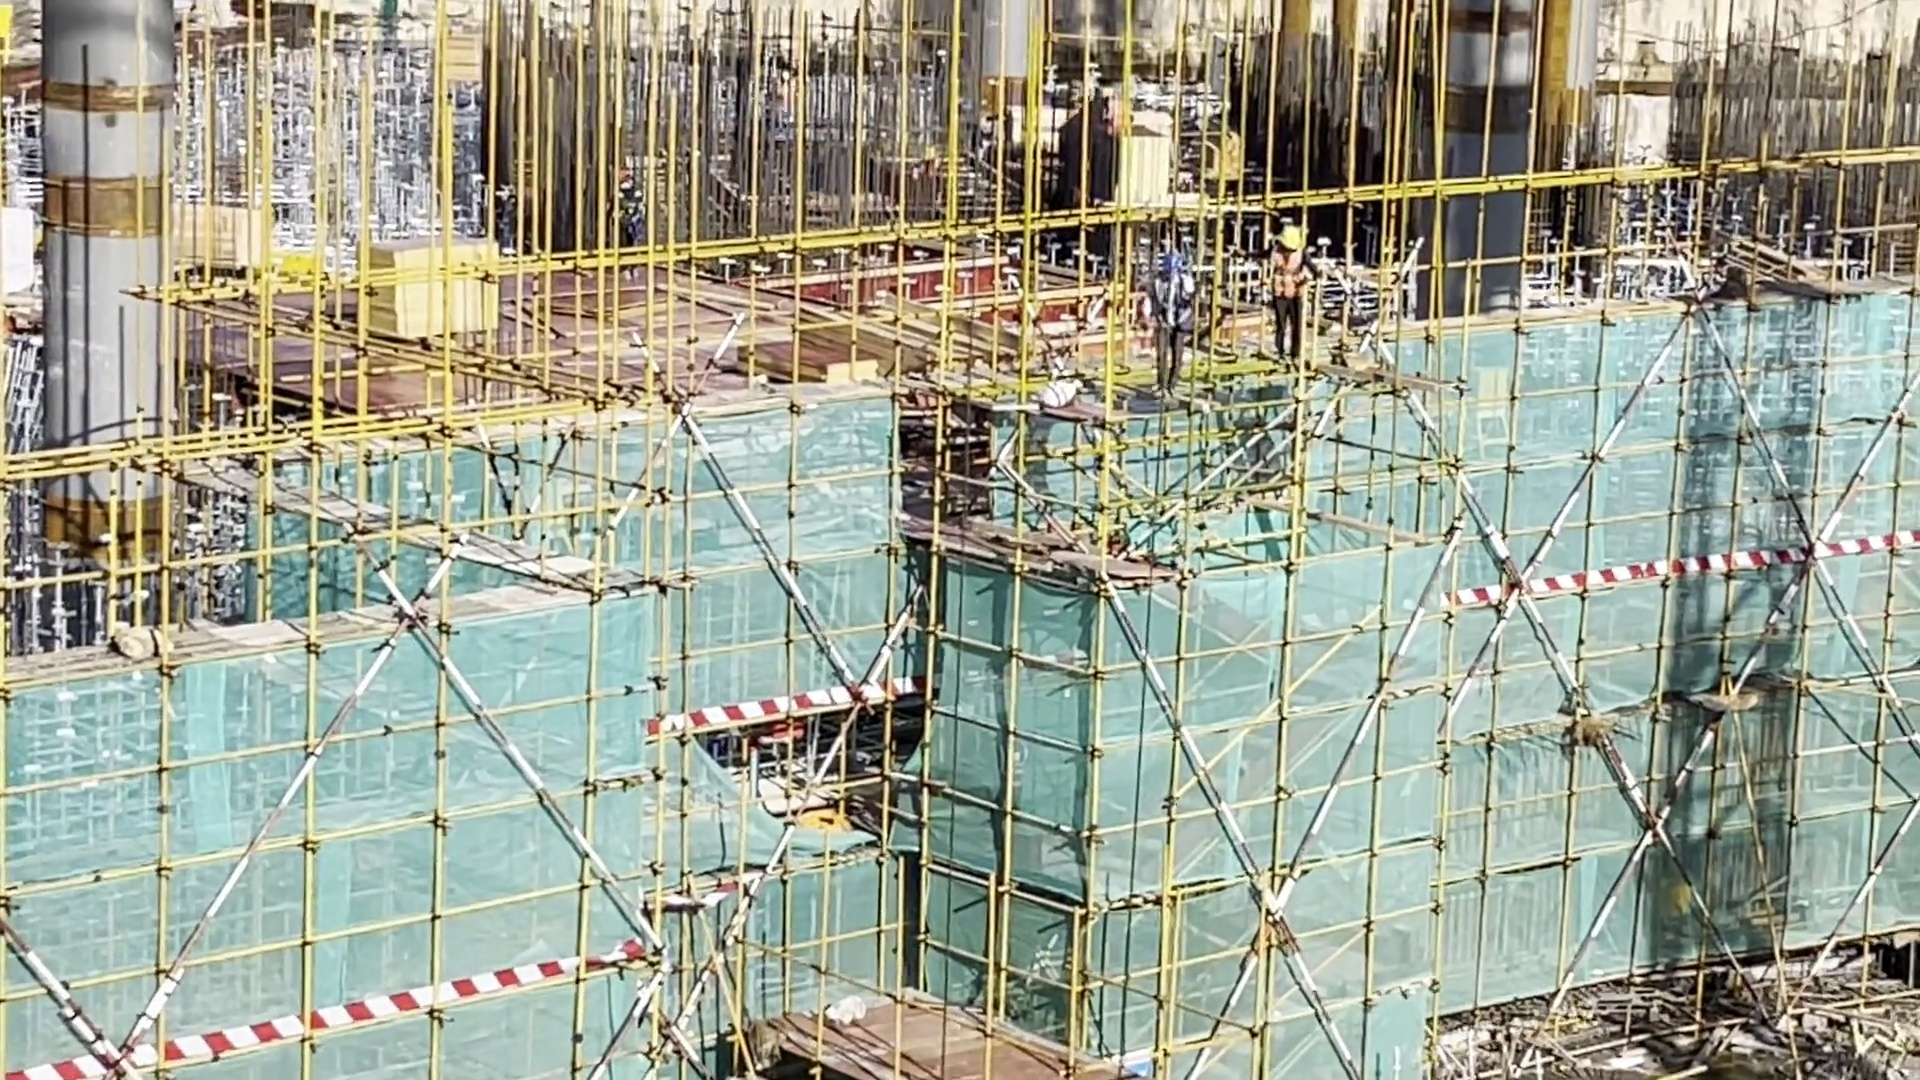ebox: (1476, 362, 1519, 462)
helmet: (1277, 219, 1308, 257), (1160, 245, 1186, 277)
person: (1242, 213, 1325, 370), (1148, 248, 1186, 395)
vest: (1153, 276, 1187, 316), (1278, 254, 1303, 285)
